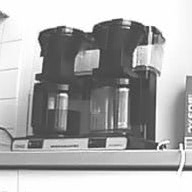empty coffee: (85, 73, 148, 141)
not empty coffee: (28, 80, 82, 139)
